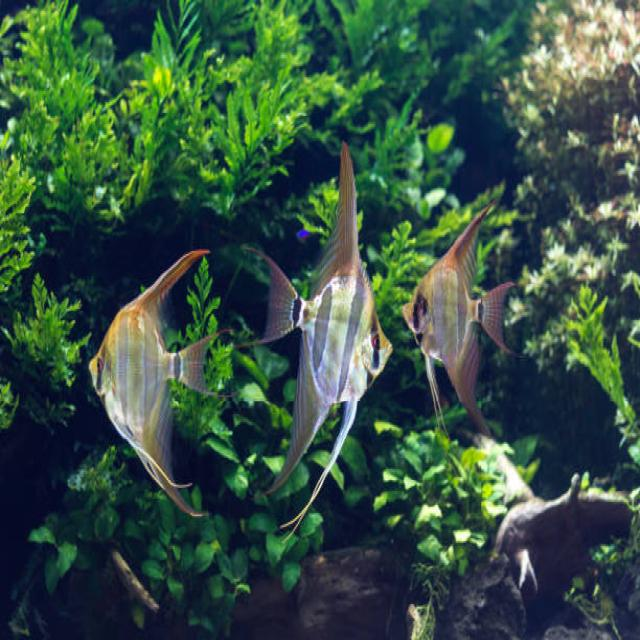AngelFish: (248, 148, 396, 537), (81, 246, 222, 526), (395, 200, 517, 432)
